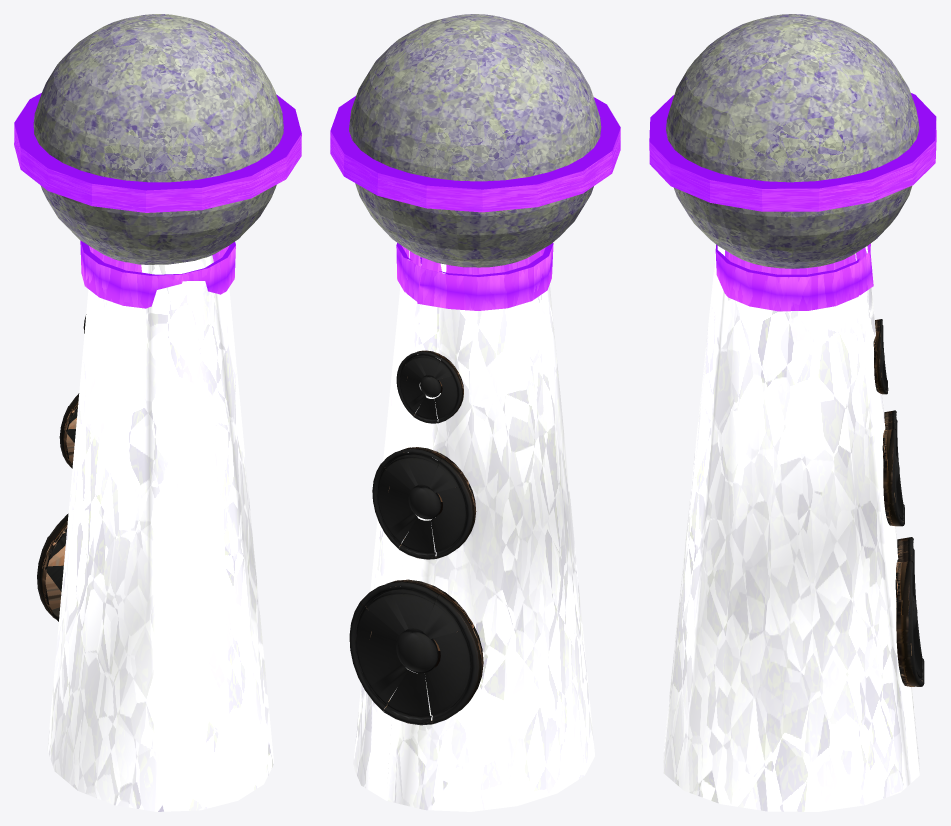
Rendered from EnceinteMicro1.glb.
3 renders of one model, left to right at view 1: azimuth 30°, elevation 25°; view 2: azimuth 150°, elevation 25°; view 3: azimuth 270°, elevation 25°, orthographic.
Visible parts, largest first — view 1: Micro, Mesh_0, Mesh_0.001; view 2: Micro, Mesh_0, Mesh_0.001, Mesh_0.002; view 3: Micro, Mesh_0, Mesh_0.001, Mesh_0.002.
Boxes of the visible parts, x1,y1,x2,y2 form: Micro: (14,14,301,811); Mesh_0: (37,513,68,621); Mesh_0.001: (59,393,79,468); Micro: (330,14,620,811); Mesh_0: (349,579,483,725); Mesh_0.001: (372,447,476,559); Mesh_0.002: (396,350,463,423); Micro: (649,14,936,811); Mesh_0: (895,537,924,686); Mesh_0.001: (882,410,904,526); Mesh_0.002: (873,319,888,394).
Size of the model in its own units: 1.38 by 3.94 by 1.38.
Materials: 4 (4 with a texture image).
